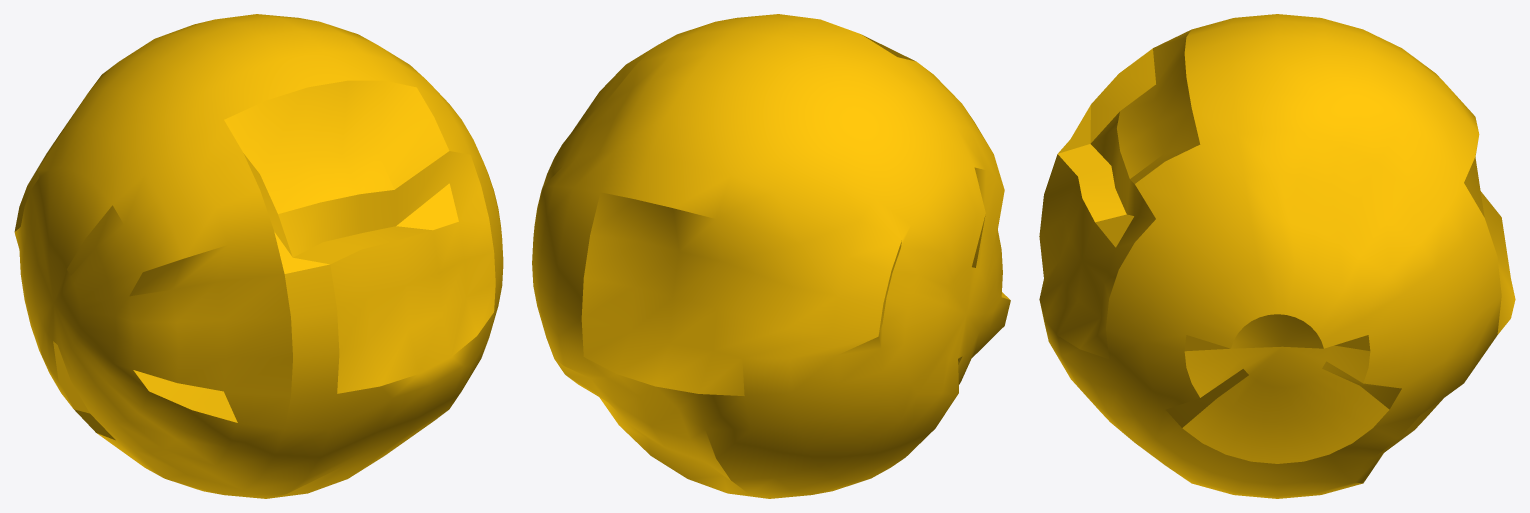
Rendered from kulka.fbx.
3 views of the same model, side by side, from view 1: azimuth 30°, elevation 25°; view 2: azimuth 150°, elevation 25°; view 3: azimuth 270°, elevation 25° (orthographic).
Parts seen in each view (by area): view 1: Sphere; view 2: Sphere; view 3: Sphere.
Part boxes in pixels (<box>): Sphere: <box>14,14,503,498</box>; Sphere: <box>532,14,1010,498</box>; Sphere: <box>1039,14,1515,498</box>.
Bounding box in the file's own units: 972 × 1005 × 986.
